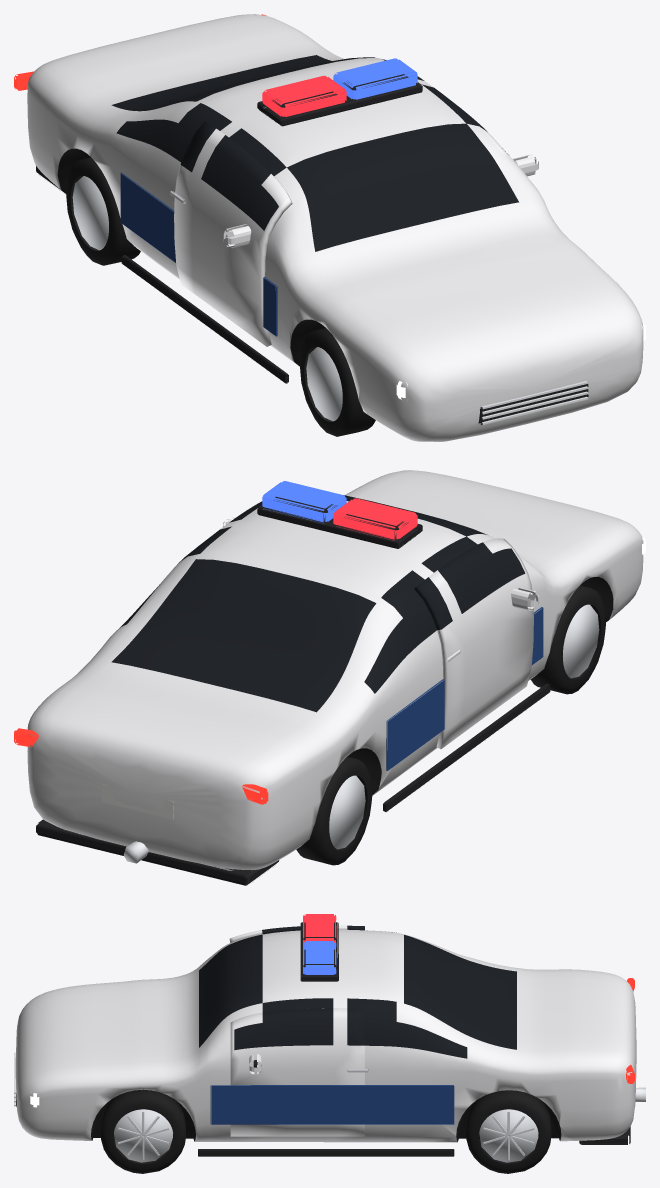
Rendered from police.glb.
The picture shows the model from 3 angles, top to bottom: view 1: azimuth 30°, elevation 25°; view 2: azimuth 150°, elevation 25°; view 3: azimuth 270°, elevation 25°; orthographic projection. The views are drawn at different scales.
Visible parts, largest first — view 1: body, door_R, door_band.001, tire.001, tire.003, lb_red, lb_blue, lb_base, skirt.001, rim.001, rim.003, grille; view 2: body, door_R, door_band.001, tire.003, tire.001, diffuser, lb_red, lb_blue, lb_base, skirt.001, rim.003, rim.001 (+1 smaller); view 3: body, door_L, door_band, tire, tire.002, rim, rim.002, skirt, lb_blue, lb_red, lb_base, door_R.
Boxes of the visible parts, x1=… form: body: x1=27, y1=14, x2=643, y2=441; door_R: x1=174, y1=121, x2=292, y2=346; door_band.001: x1=120, y1=172, x2=277, y2=336; tire.001: x1=299, y1=328, x2=375, y2=436; tire.003: x1=66, y1=157, x2=140, y2=265; lb_red: x1=262, y1=75, x2=346, y2=116; lb_blue: x1=333, y1=58, x2=417, y2=99; lb_base: x1=257, y1=74, x2=422, y2=126; skirt.001: x1=121, y1=255, x2=288, y2=383; rim.001: x1=306, y1=347, x2=342, y2=421; rim.003: x1=72, y1=176, x2=108, y2=250; grille: x1=478, y1=384, x2=588, y2=424; body: x1=27, y1=470, x2=643, y2=870; door_R: x1=414, y1=538, x2=533, y2=749; door_band.001: x1=386, y1=607, x2=543, y2=770; tire.003: x1=296, y1=756, x2=372, y2=865; tire.001: x1=530, y1=585, x2=605, y2=694; diffuser: x1=36, y1=819, x2=279, y2=885; lb_red: x1=333, y1=498, x2=417, y2=540; lb_blue: x1=262, y1=481, x2=346, y2=523; lb_base: x1=257, y1=496, x2=422, y2=548; skirt.001: x1=383, y1=683, x2=550, y2=811; rim.003: x1=329, y1=775, x2=365, y2=849; rim.001: x1=563, y1=604, x2=599, y2=678; body: x1=15, y1=929, x2=636, y2=1142; door_L: x1=230, y1=1008, x2=364, y2=1136; door_band: x1=210, y1=1085, x2=454, y2=1124; tire: x1=100, y1=1089, x2=185, y2=1173; tire.002: x1=466, y1=1090, x2=551, y2=1173; rim: x1=114, y1=1109, x2=173, y2=1162; rim.002: x1=479, y1=1109, x2=538, y2=1162; skirt: x1=198, y1=1149, x2=454, y2=1156; lb_blue: x1=303, y1=941, x2=336, y2=974; lb_red: x1=303, y1=914, x2=336, y2=942; lb_base: x1=300, y1=922, x2=338, y2=981; door_R: x1=229, y1=925, x2=364, y2=1008.
Size of what is drawn, in the model's own units: 2.2 by 1.61 by 4.93.
